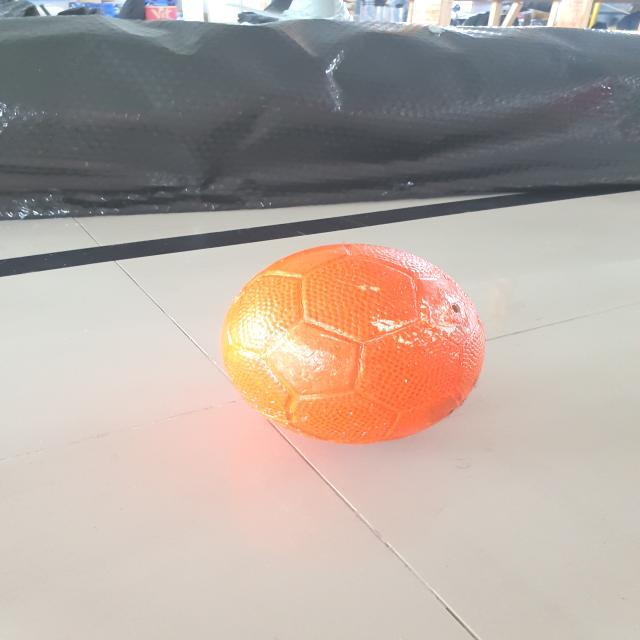bola: (208, 235, 497, 454)
